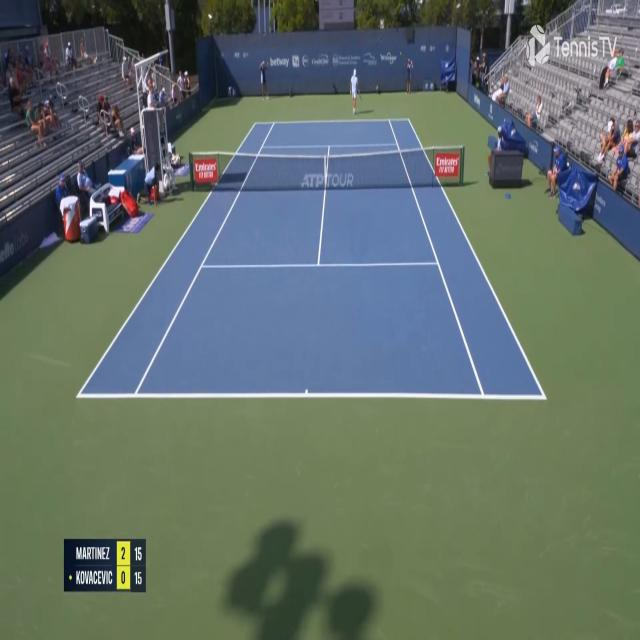tennis-player: (349, 66, 361, 116)
